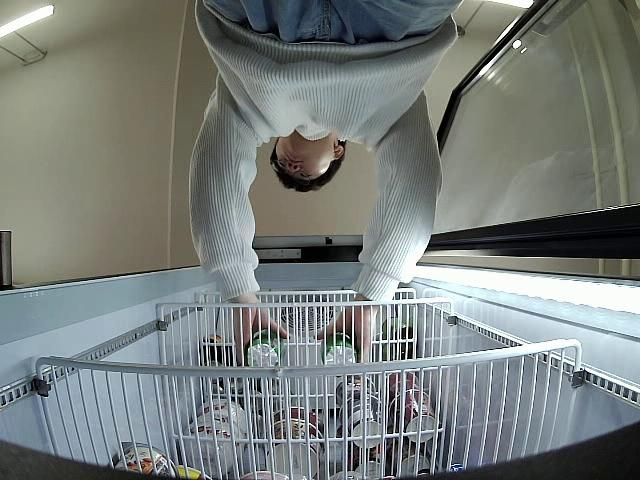00_hand: (315, 299, 374, 364), (234, 305, 289, 368)
18_trevi: (246, 326, 284, 369), (321, 334, 356, 368)
